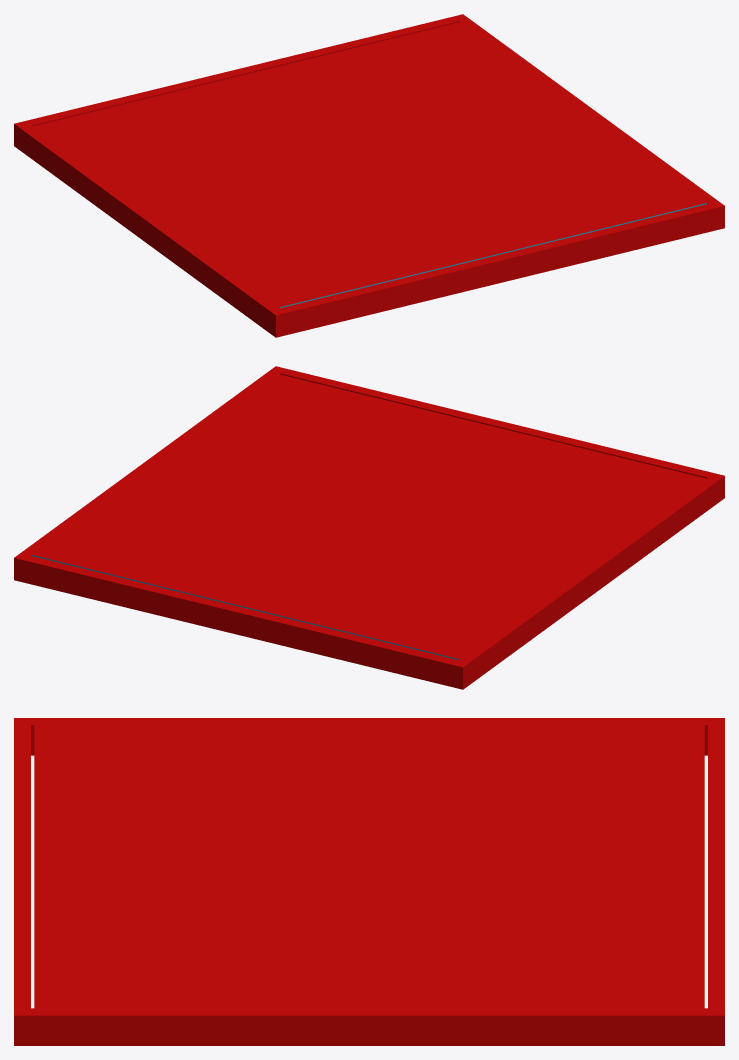
Rendered from Boton.fbx.
3 renders of one model, top to bottom at view 1: azimuth 30°, elevation 25°; view 2: azimuth 150°, elevation 25°; view 3: azimuth 270°, elevation 25°, orthographic. The views are drawn at different scales.
Parts seen in each view (by area): view 1: Group_2; view 2: Group_2; view 3: Group_2.
Part boxes in pixels (x1=…): Group_2: x1=14, y1=14, x2=724, y2=337; Group_2: x1=14, y1=366, x2=724, y2=689; Group_2: x1=14, y1=718, x2=724, y2=1045.
Bounding box in the file's own units: 0.021 × 0.0212 × 0.001.
